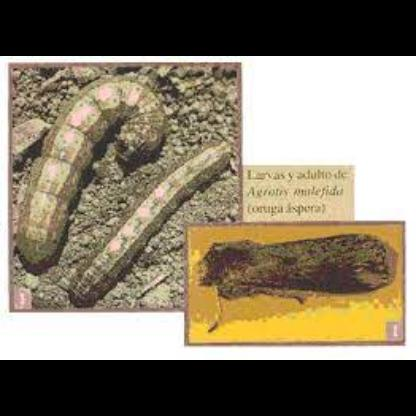oruga: (44, 140, 230, 306), (21, 65, 168, 269)
